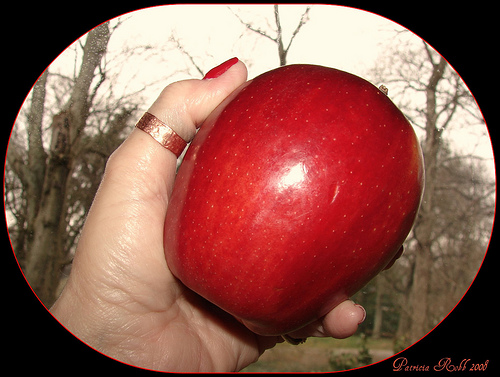apple: (163, 64, 426, 340)
